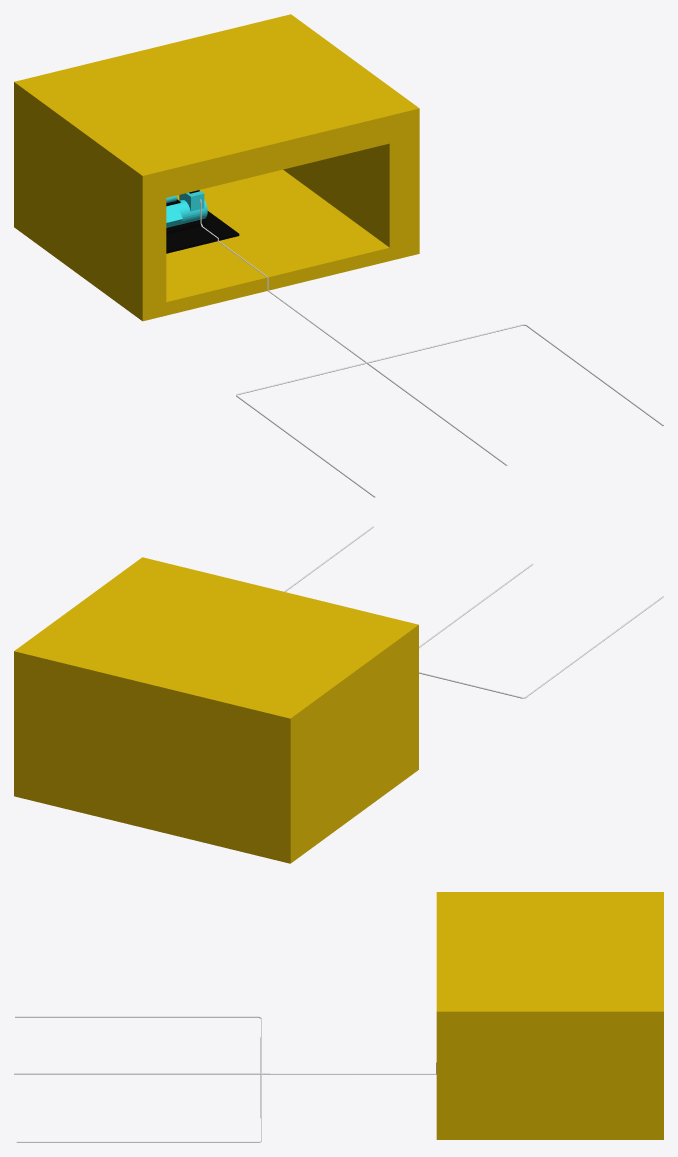
The model's file is generatorHouse.fbx.
3 renders of one model, top to bottom at view 1: azimuth 30°, elevation 25°; view 2: azimuth 150°, elevation 25°; view 3: azimuth 270°, elevation 25°, orthographic. The views are drawn at different scales.
Parts seen in each view (by area): view 1: Cube.010, Cube.011, Cube; view 2: Cube.010, Cube.011; view 3: Cube.010, Cube.011.
Boxes of the visible parts, x1=… form: Cube.010: x1=14, y1=14, x2=419, y2=321; Cube.011: x1=200, y1=199, x2=663, y2=497; Cube: x1=166, y1=211, x2=239, y2=253; Cube.010: x1=14, y1=557, x2=418, y2=863; Cube.011: x1=284, y1=526, x2=663, y2=698; Cube.010: x1=436, y1=892, x2=663, y2=1139; Cube.011: x1=14, y1=1016, x2=436, y2=1142.
Bounding box in the file's own units: 5231 × 2503 × 11462.
